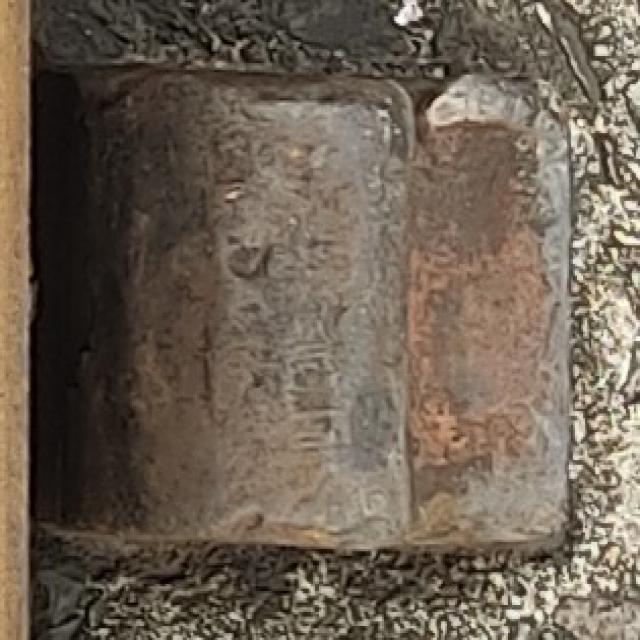track_bolt_missing: (36, 58, 418, 559)
